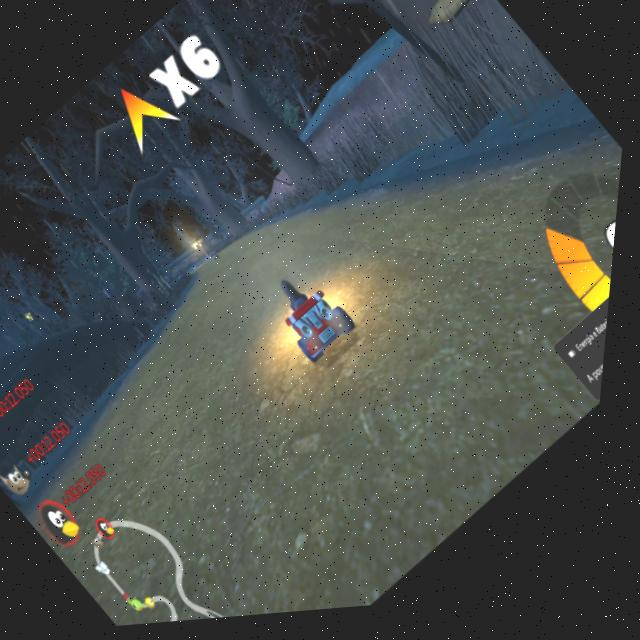off_track: (257, 0, 522, 211)
player_kart: (259, 258, 371, 374)
track: (116, 293, 426, 610), (187, 220, 311, 337)
